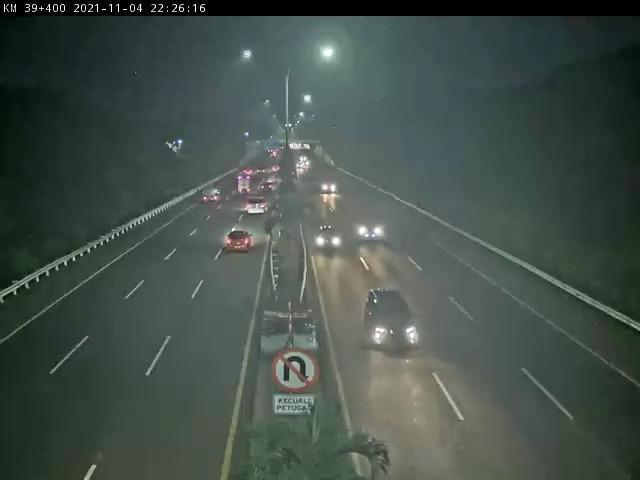car: (363, 288, 428, 359), (317, 226, 343, 253), (361, 223, 390, 247), (228, 231, 255, 252), (248, 199, 264, 215), (318, 184, 341, 195)
